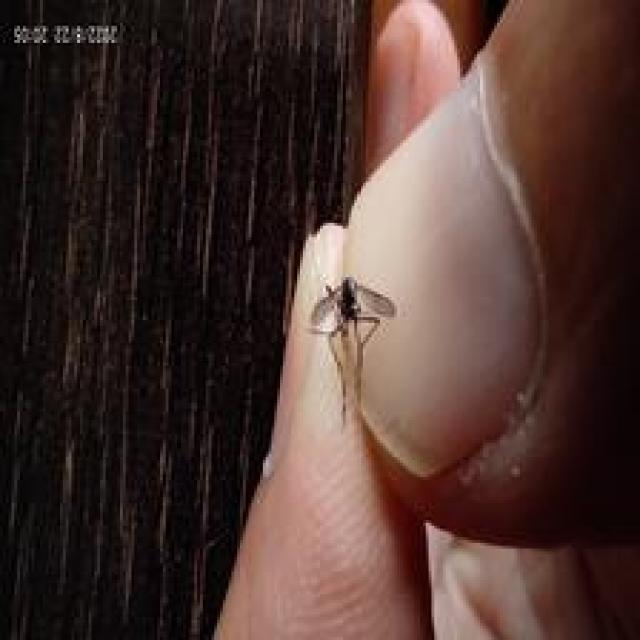Aedes albopictus: (306, 274, 397, 346)
